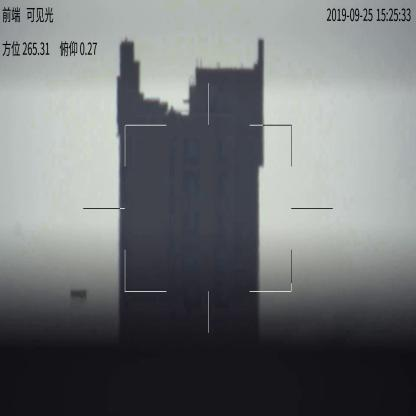uav: (70, 290, 88, 301)
